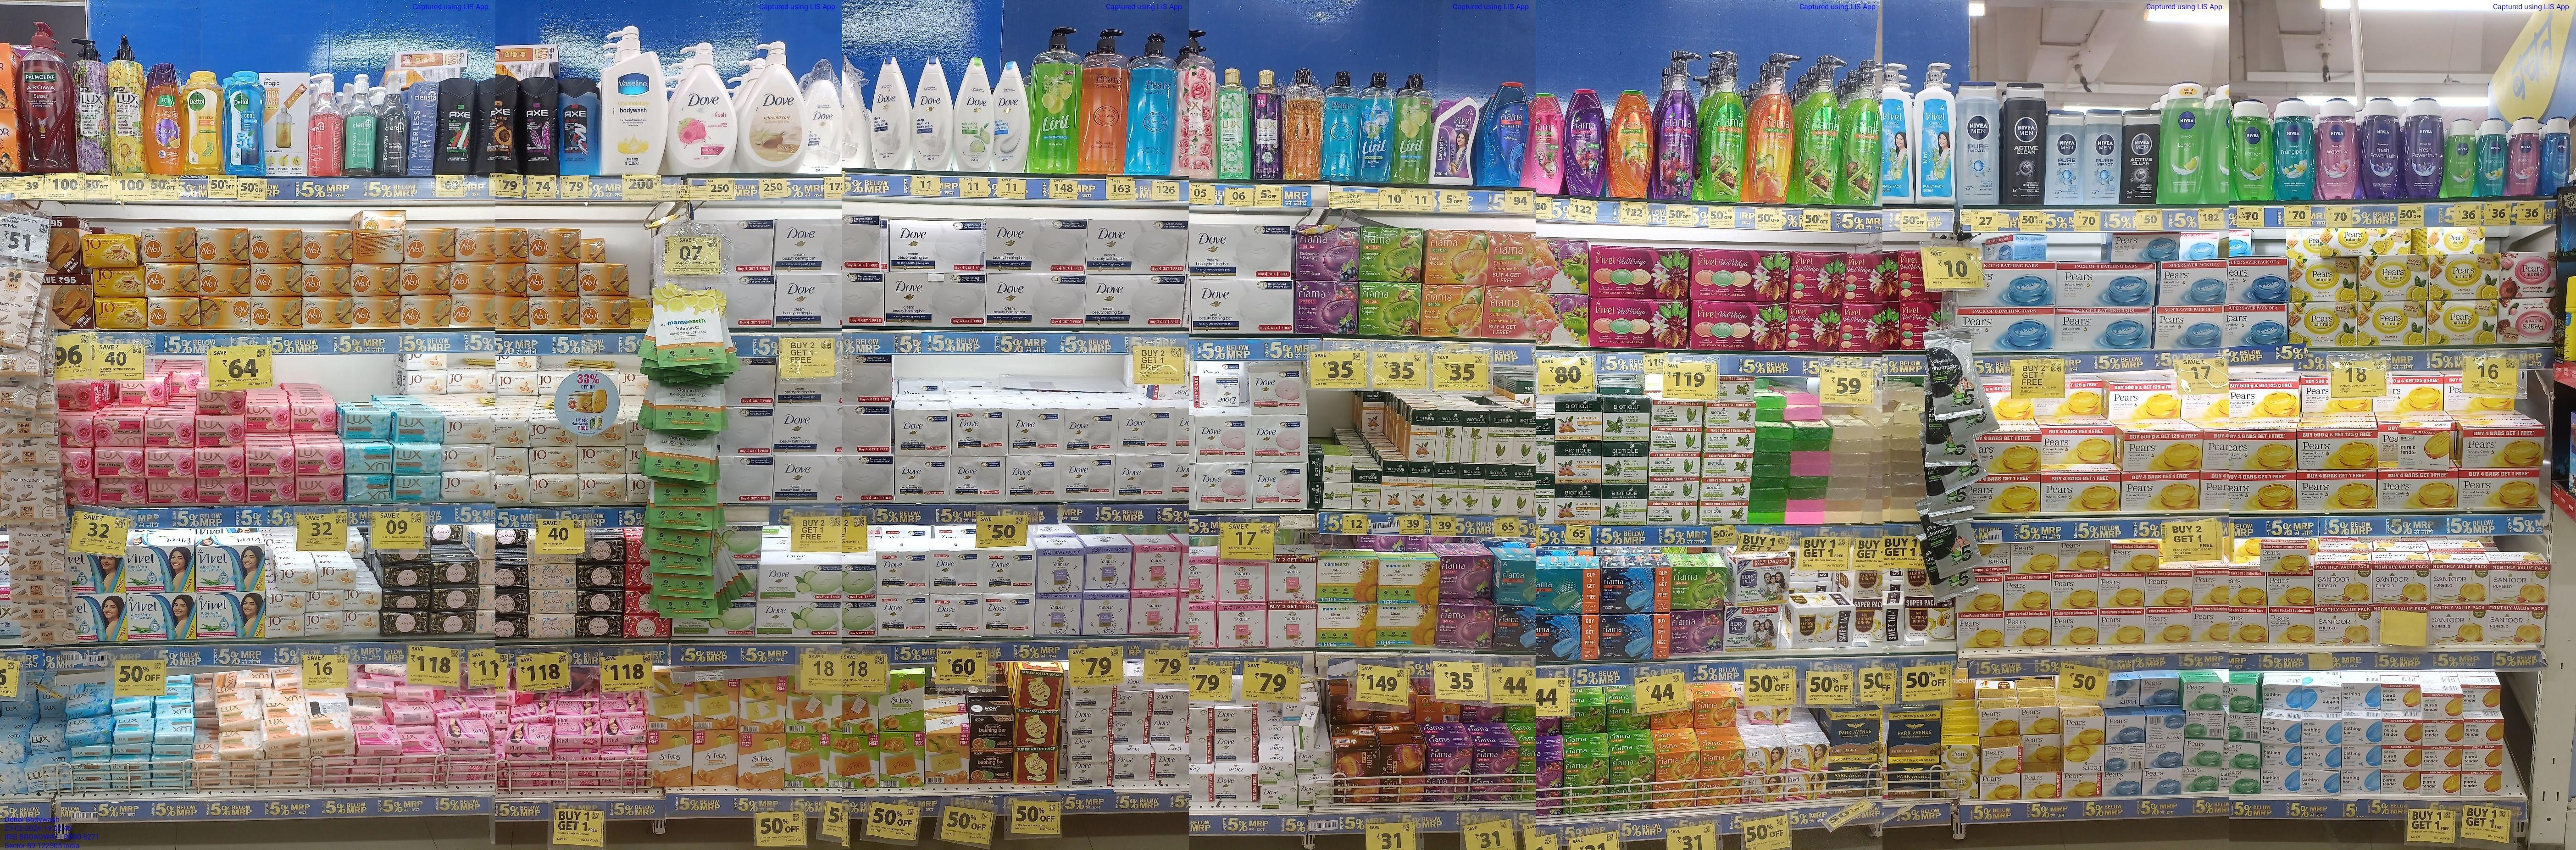Dettol_Bodywash_Cool: (225, 71, 268, 176)
Dettol_Bodywash_Refresh: (186, 69, 225, 174)
Dove_Deep_Moisture_Body_Wash_250ML: (912, 56, 953, 171), (872, 53, 907, 171)
Dove_Gentle_Exfoliating_Body_Wash_250ML: (992, 59, 1027, 174)
Dove_Refreshing_Body_Wash_250ML: (955, 56, 992, 173)
Fiama_Shower_Gel_Patchouli_and_Macadamia_250ML: (1536, 90, 1561, 196)
Fiama_Shower_Gel_Peach_and_Avocado_250ML: (1613, 90, 1651, 197)
Joy_Shower_Gel_Mandarin_and_Lemongrass_250ML: (149, 62, 186, 176)
Liril_Cooling_Mint_Body_Wash_250ML: (1357, 71, 1390, 182)
Liril_Lime_and_Tea_Tree_Oil_Body_Wash_250ML: (1393, 72, 1428, 182)
Lux_Black_Orchid_Scent_and_Juniper_Oil_Body_Wash_245ML: (1250, 67, 1281, 181)
Lux_Body_Wash_Skin_Detox_Freesia_Scent_and_Alove_Vera_245ML: (1217, 67, 1249, 181)
Nivea_Shower_Gel_Frangipani_and_Oil_250ML: (2274, 95, 2315, 201)
Nivea_Shower_Gel_Fresh_Powerfruit_250ML: (2359, 94, 2403, 201), (2403, 95, 2441, 201)
Nivea_Shower_Gel_Lemon_and_Oil_250ML: (2159, 82, 2205, 201), (2229, 97, 2272, 201)
Nivea_Shower_Gel_Waterlily_and_Oil_250ML: (2316, 97, 2354, 199)
Pears_Pure_Glycerin_and_Mint_Extracts_Body_Wash_250ML: (1321, 71, 1355, 182)
